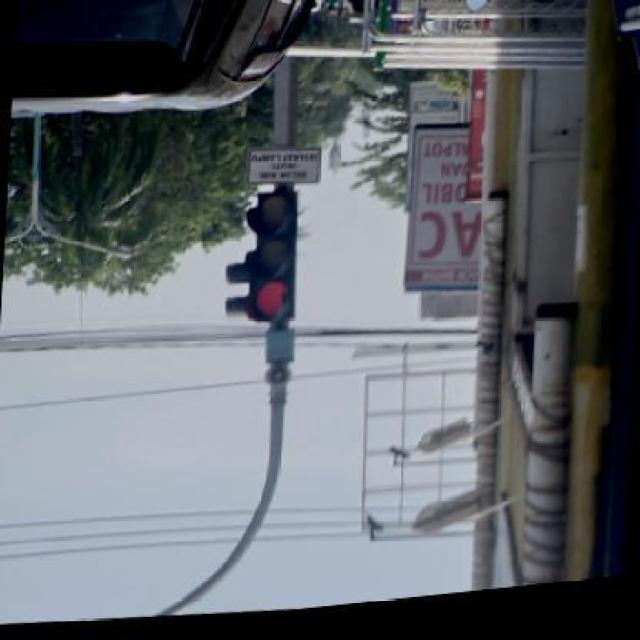Traffic Light -Red-: (246, 186, 303, 328)
